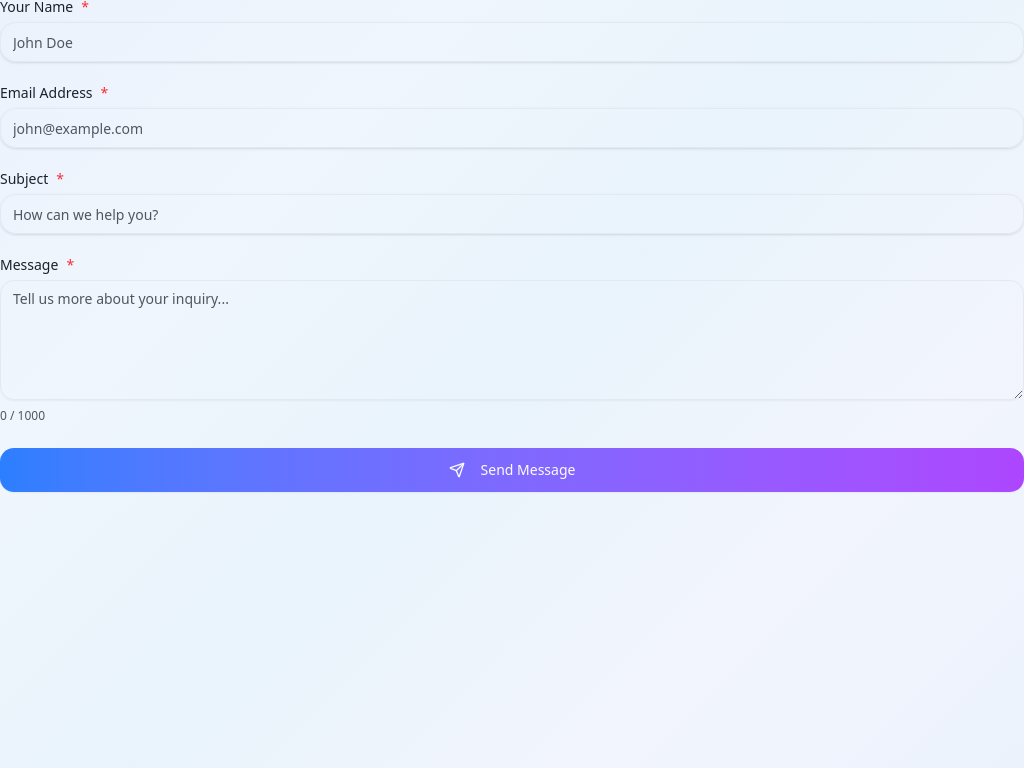
Test: ContactForm Component › validation › should show error when name is empty on submit
Click the button with aria-label "send contact message". click: (512, 470)
box: [0,448,1023,492]
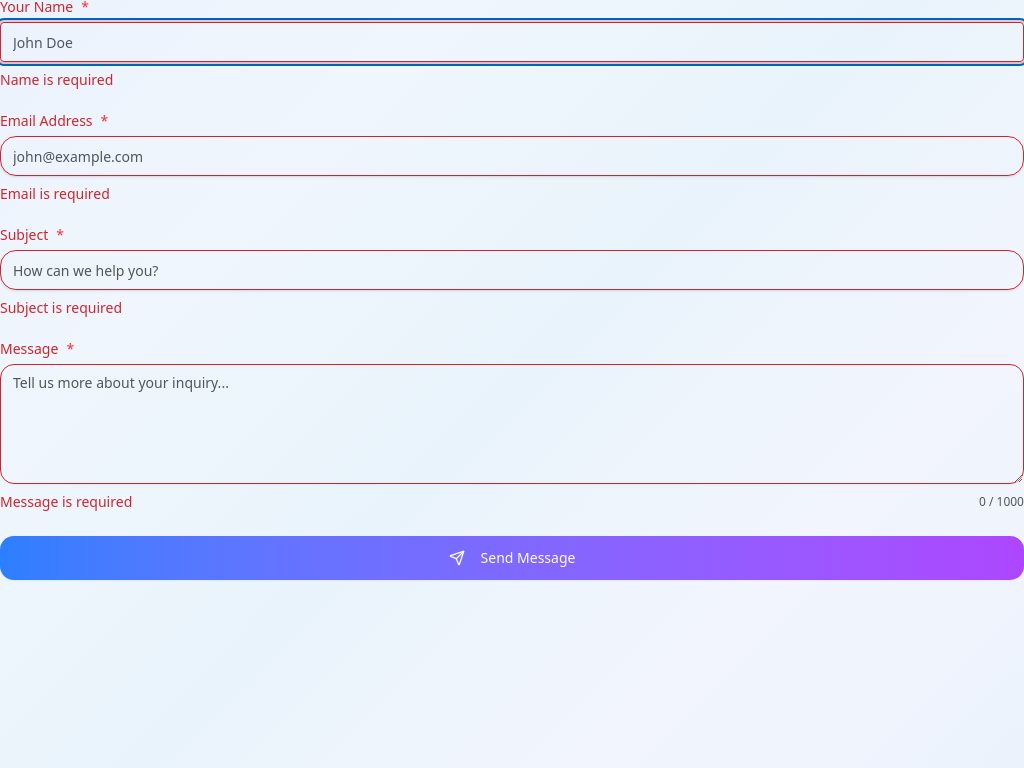
Now the text "Name is required" is shown, box [0,70,113,89]
